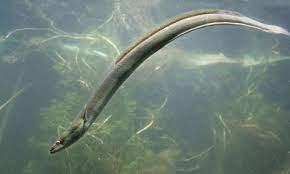Freshwater Eel: (47, 7, 290, 154)
